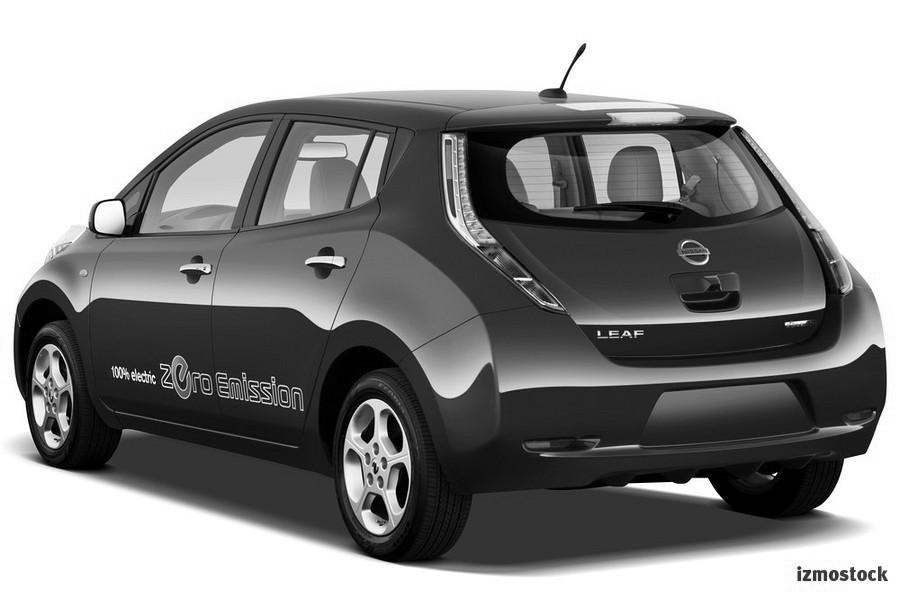car: (11, 44, 892, 566)
